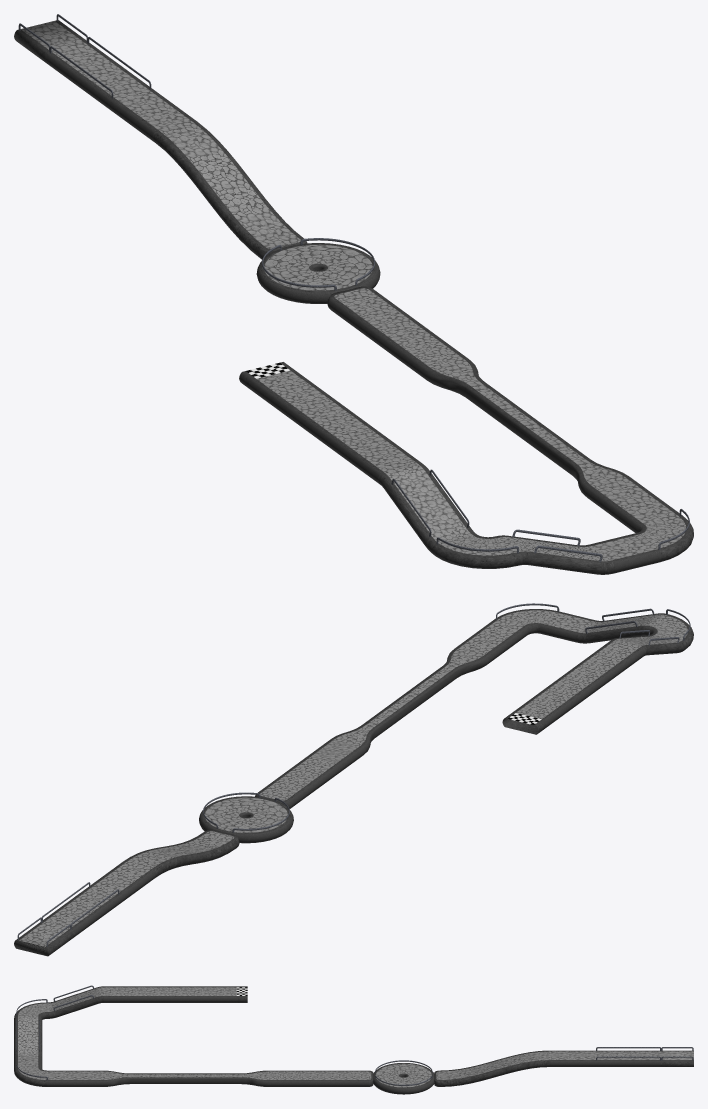
File: map29.fbx
3 renders of one model, top to bottom at view 1: azimuth 30°, elevation 25°; view 2: azimuth 150°, elevation 25°; view 3: azimuth 270°, elevation 25°, orthographic. The views are drawn at different scales.
Parts seen in each view (by area): view 1: Dummy_Start_1, Terrain_Circle_Bar_2; view 2: Dummy_Start_1, Terrain_Circle_Bar_2; view 3: Dummy_Start_1, Terrain_Circle_Bar_2.
Part boxes in pixels (<box>): Dummy_Start_1: <box>14,14,693,574</box>; Terrain_Circle_Bar_2: <box>256,238,380,303</box>; Dummy_Start_1: <box>14,603,693,956</box>; Terrain_Circle_Bar_2: <box>199,792,293,843</box>; Dummy_Start_1: <box>14,985,693,1086</box>; Terrain_Circle_Bar_2: <box>373,1060,434,1094</box>.
Size of the model in its own units: 3072 by 791 by 12306.
6 materials, 6 textured.
